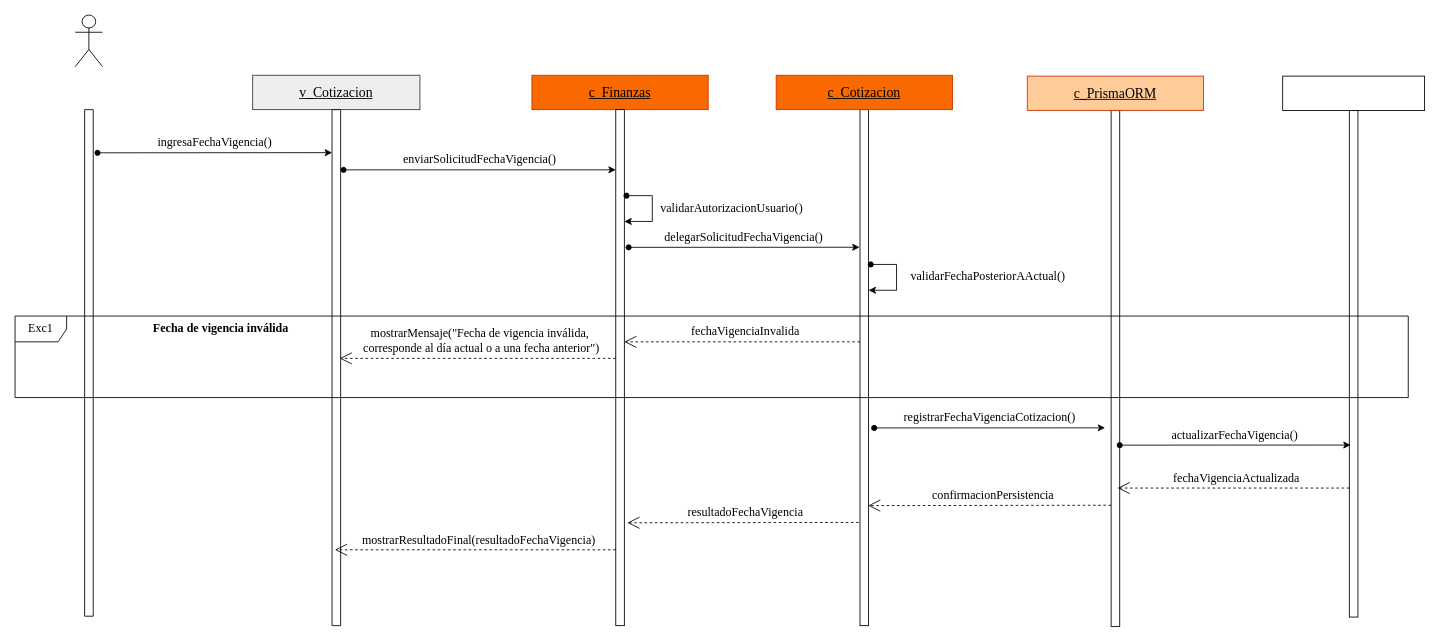
Some shapes in this 1440 by 642 pixel diagram are drawn without their labels. Each missing label, with the box of its shape:
cotizacion: (1282, 75, 1425, 111)
Usuario Autorizado Gerencia o Secretaria: (74, 14, 103, 67)
